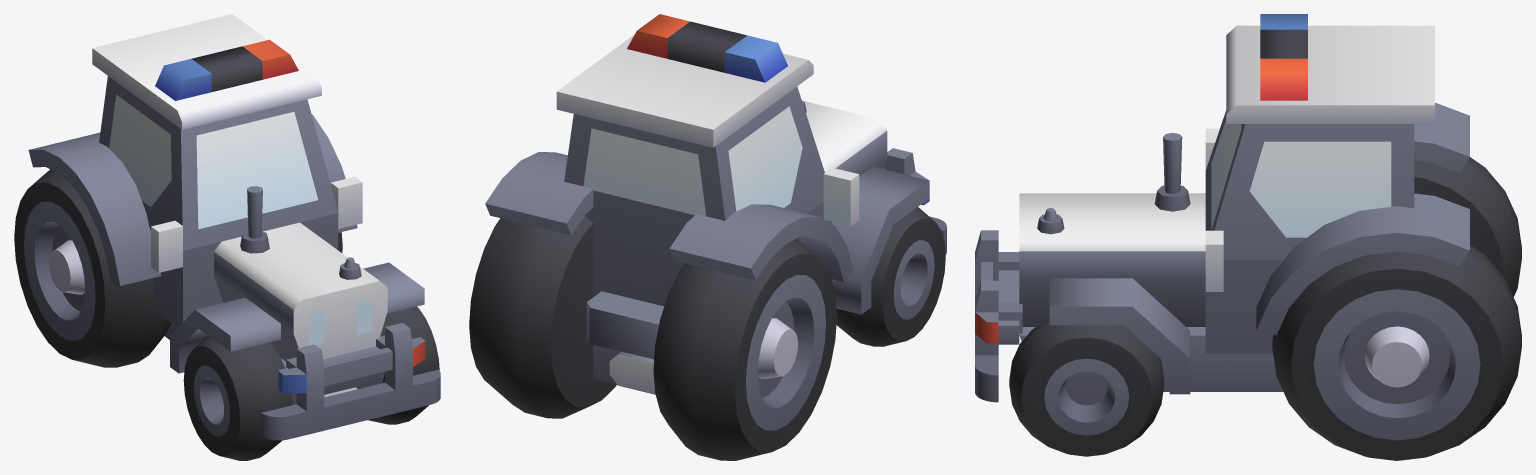
Rendered from tractor-police.fbx.
The picture shows the model from 3 angles, left to right: view 1: azimuth 30°, elevation 25°; view 2: azimuth 150°, elevation 25°; view 3: azimuth 270°, elevation 25°; orthographic projection. The views are drawn at different scales.
Visible parts, largest first — view 1: body, wheel-back-right, grill, wheel-front-right, wheel-front-left; view 2: body, wheel-back-right, wheel-back-left, wheel-front-right, grill; view 3: body, wheel-back-left, wheel-front-left, wheel-back-right, grill.
Part boxes in pixels (x1,y1,x2,y2): body: (28,14,424,404); wheel-back-right: (14,169,171,367); grill: (261,323,440,440); wheel-front-right: (183,336,292,460); wheel-front-left: (368,306,439,424); body: (485,14,929,394); wheel-back-right: (653,239,836,460); wheel-back-left: (469,216,616,418); wheel-front-right: (836,207,945,346); grill: (883,148,946,254); body: (998,14,1469,394); wheel-back-left: (1272,245,1521,460); wheel-front-left: (1009,318,1164,456); wheel-back-right: (1414,157,1521,296); grill: (975,230,1022,402).
Size of the model in its own units: 134 by 170 by 230.
Materials: 1 (1 with a texture image).
